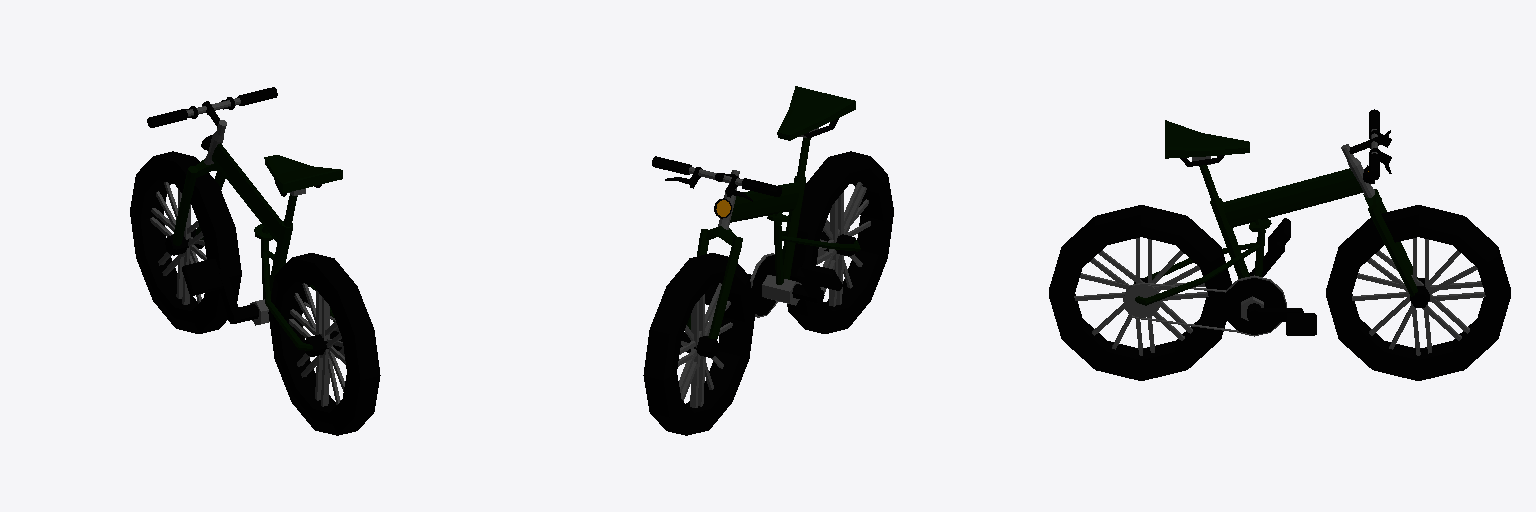
The model's file is Bike.obj.
3 renders of one model, left to right at view 1: azimuth 30°, elevation 25°; view 2: azimuth 150°, elevation 25°; view 3: azimuth 270°, elevation 25°, orthographic.
Parts seen in each view (by area): view 1: Bike_Cylinder.018; view 2: Bike_Cylinder.018; view 3: Bike_Cylinder.018.
Boxes of the visible parts, box(x1,y1,x2,y2) form: Bike_Cylinder.018: box(130, 87, 380, 435); Bike_Cylinder.018: box(643, 86, 893, 435); Bike_Cylinder.018: box(1049, 109, 1510, 380).
Bounding box in the file's own units: 1.68 × 2.79 × 4.83.